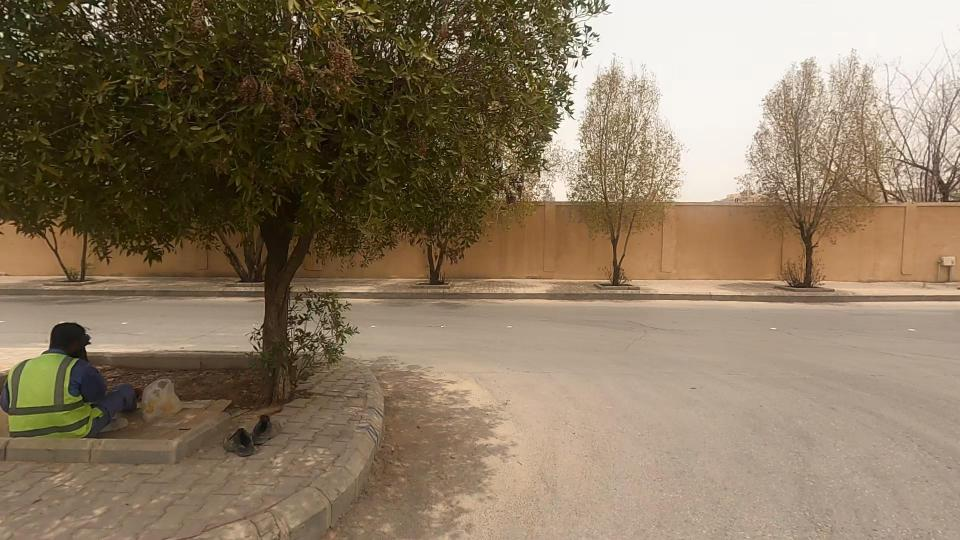GARBAGE: (102, 345, 215, 449)
